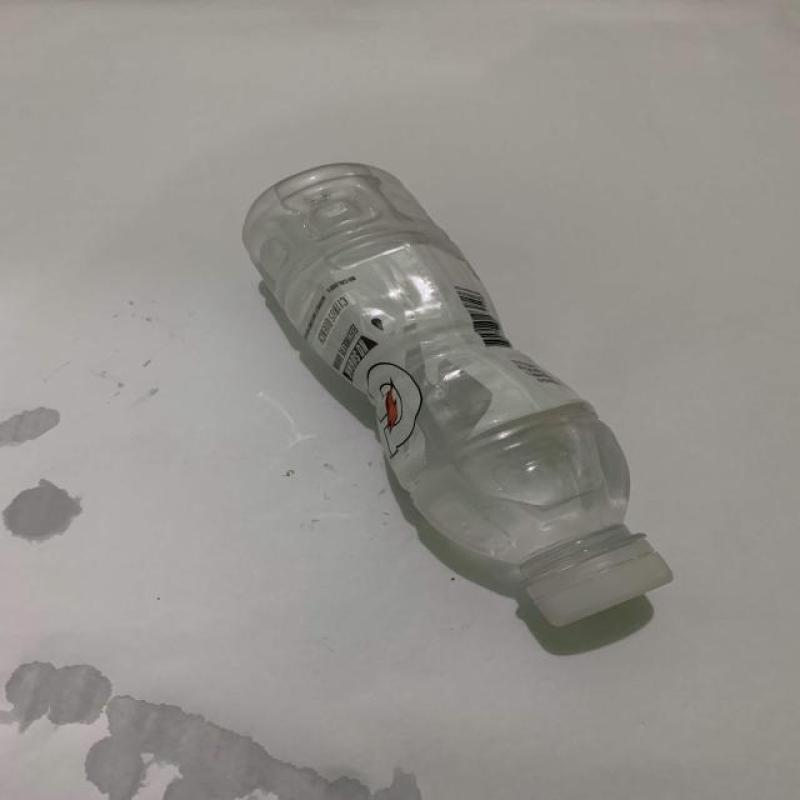botella: (238, 162, 674, 632)
